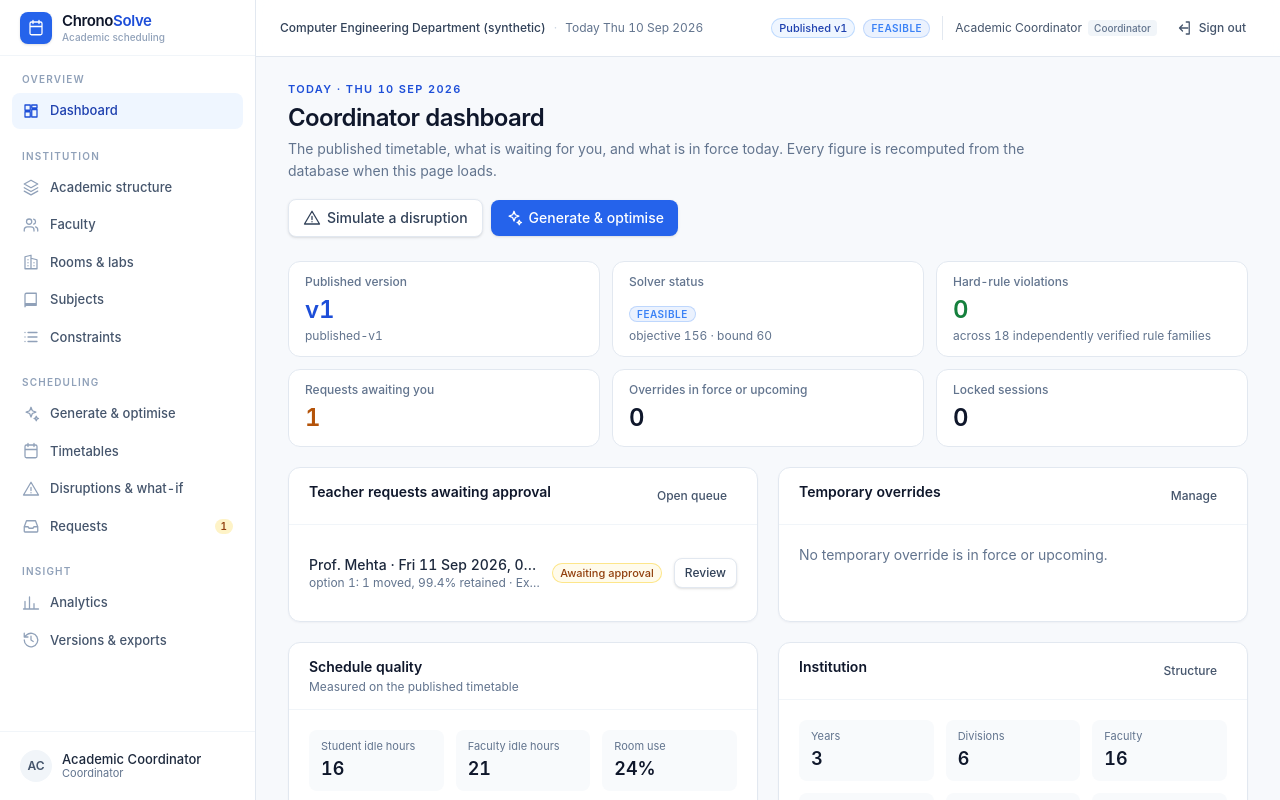
Scenario: signing in › signs out back to the sign-in screen
expect the navigation bar named "Main" is shown: met, box [0,56,255,731]
Click the button "Sign out" at (1210, 28), box [1165,13,1256,43]
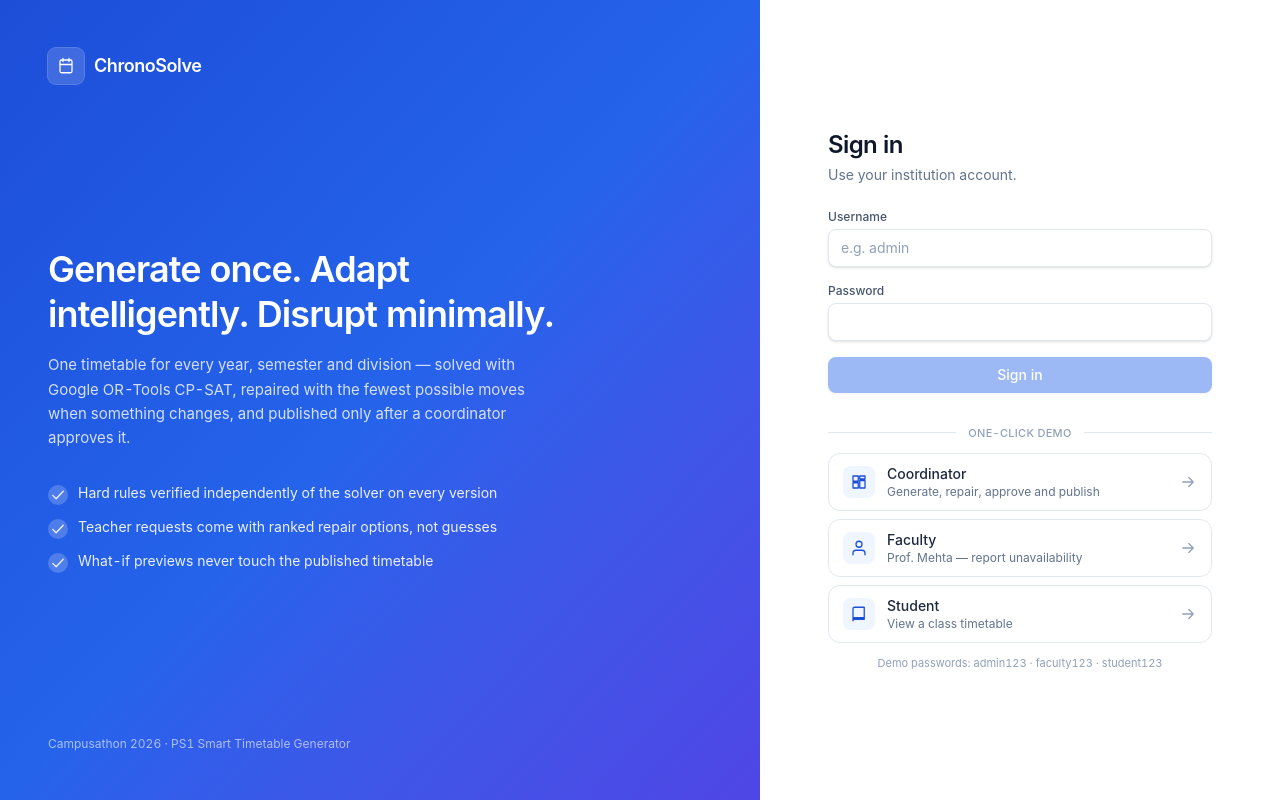
expect the heading "Sign in" is shown: met, box [828,130,903,158]
